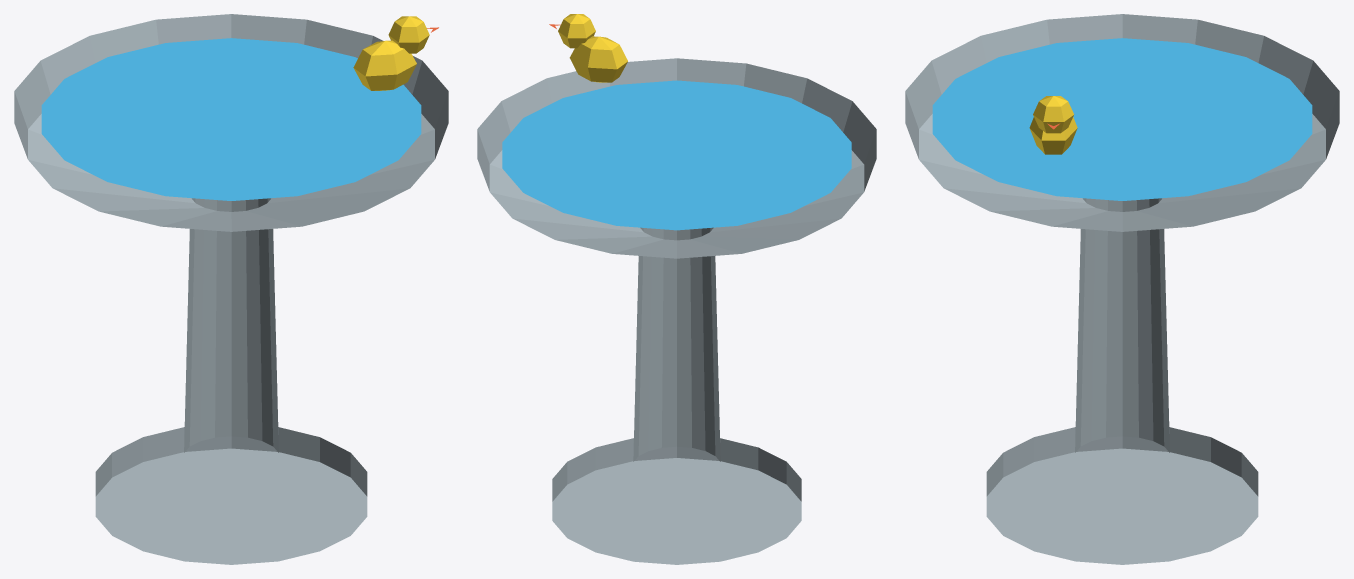
Rendered from fagelbad.glb.
The picture shows the model from 3 angles, left to right: view 1: azimuth 30°, elevation 25°; view 2: azimuth 150°, elevation 25°; view 3: azimuth 270°, elevation 25°; orthographic projection. The views are drawn at different scales.
Parts seen in each view (by area): view 1: fagelbad; view 2: fagelbad; view 3: fagelbad.
Part boxes in pixels (x1,y1,x2,y2): fagelbad: [14, 14, 448, 564]; fagelbad: [477, 14, 876, 564]; fagelbad: [905, 14, 1339, 564].
Size of the model in its own units: 0.64 by 0.77 by 0.6303.
